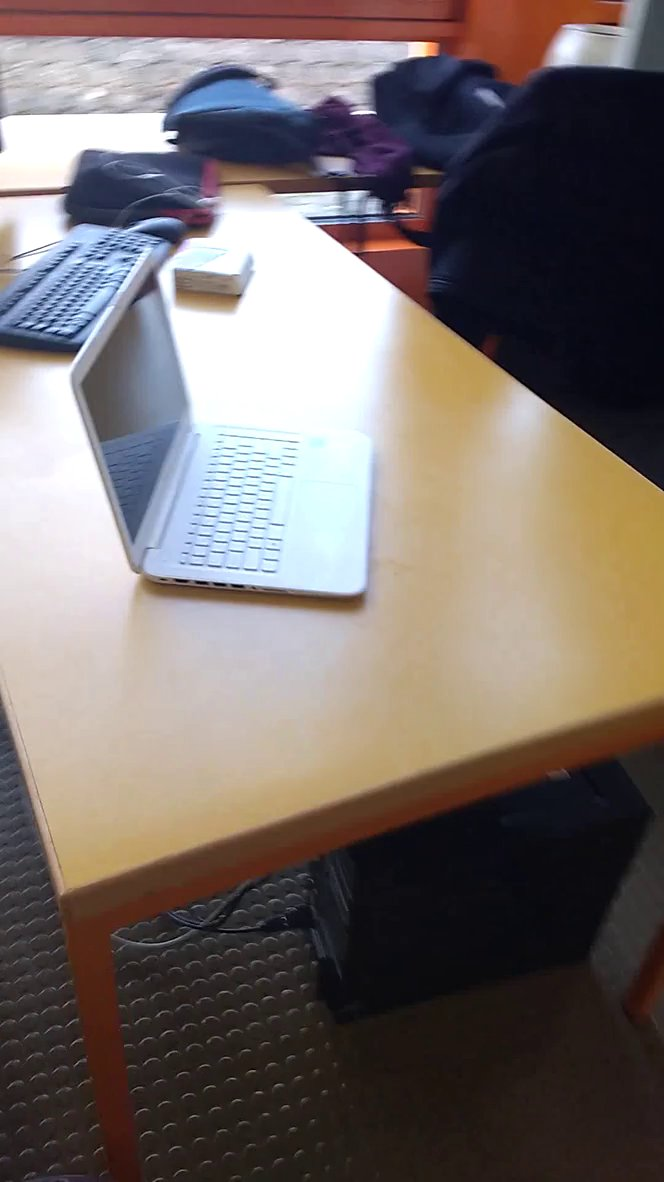laptop: (47, 240, 394, 626)
